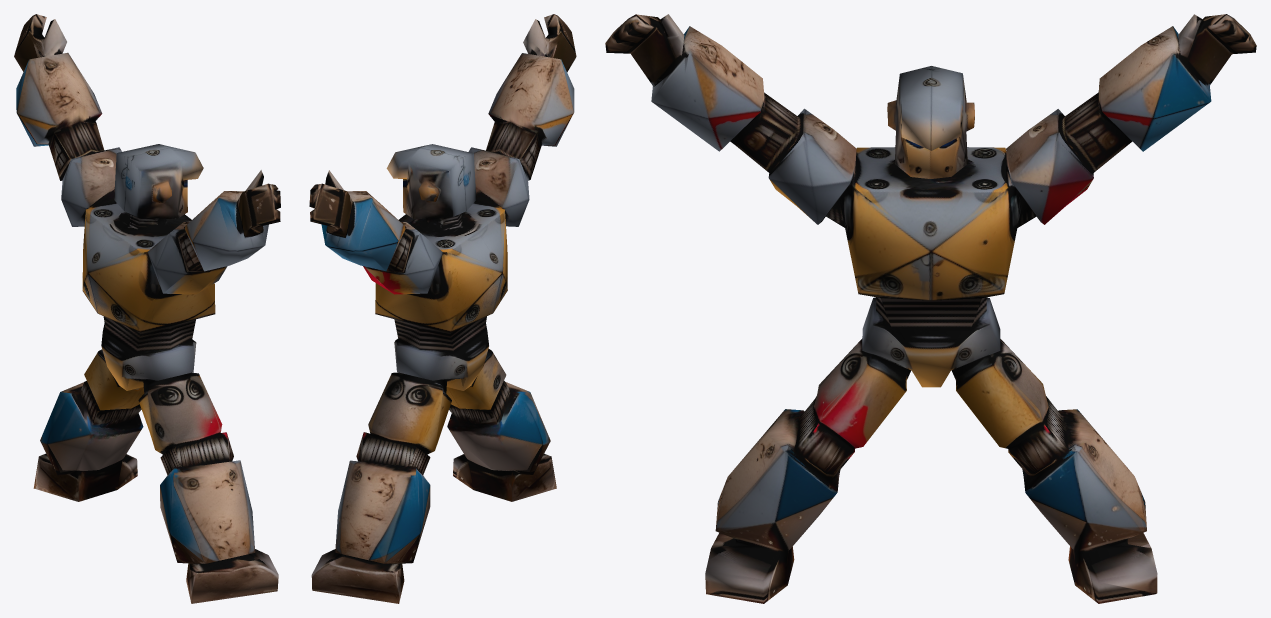
3 renders of one model, left to right at view 1: azimuth 30°, elevation 25°; view 2: azimuth 150°, elevation 25°; view 3: azimuth 270°, elevation 25°, orthographic. The views are drawn at different scales.
Visible parts, largest first — view 1: tripo_node_cdb207b5; view 2: tripo_node_cdb207b5; view 3: tripo_node_cdb207b5.
Part boxes in pixels (x1,y1,x2,y2): tripo_node_cdb207b5: (14, 14, 280, 603); tripo_node_cdb207b5: (309, 14, 576, 603); tripo_node_cdb207b5: (605, 14, 1256, 603).
Size of the model in its own units: 0.2769 by 0.952 by 1.
1 material, 1 textured.
